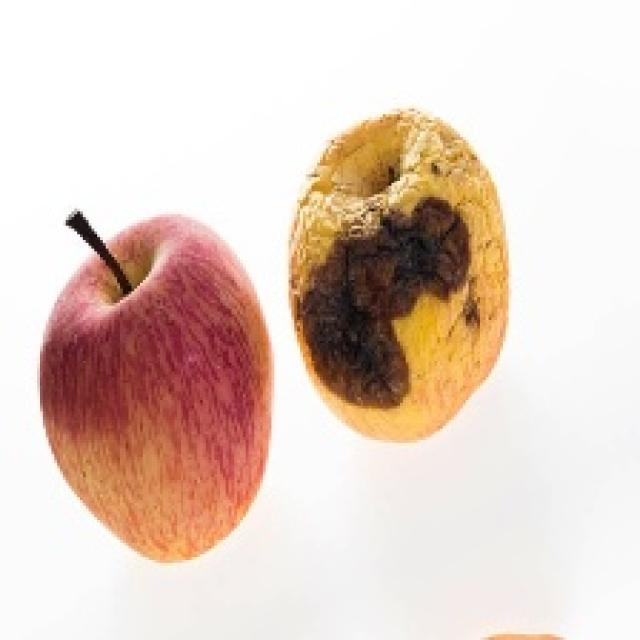rotten_apple: (292, 115, 509, 439)
